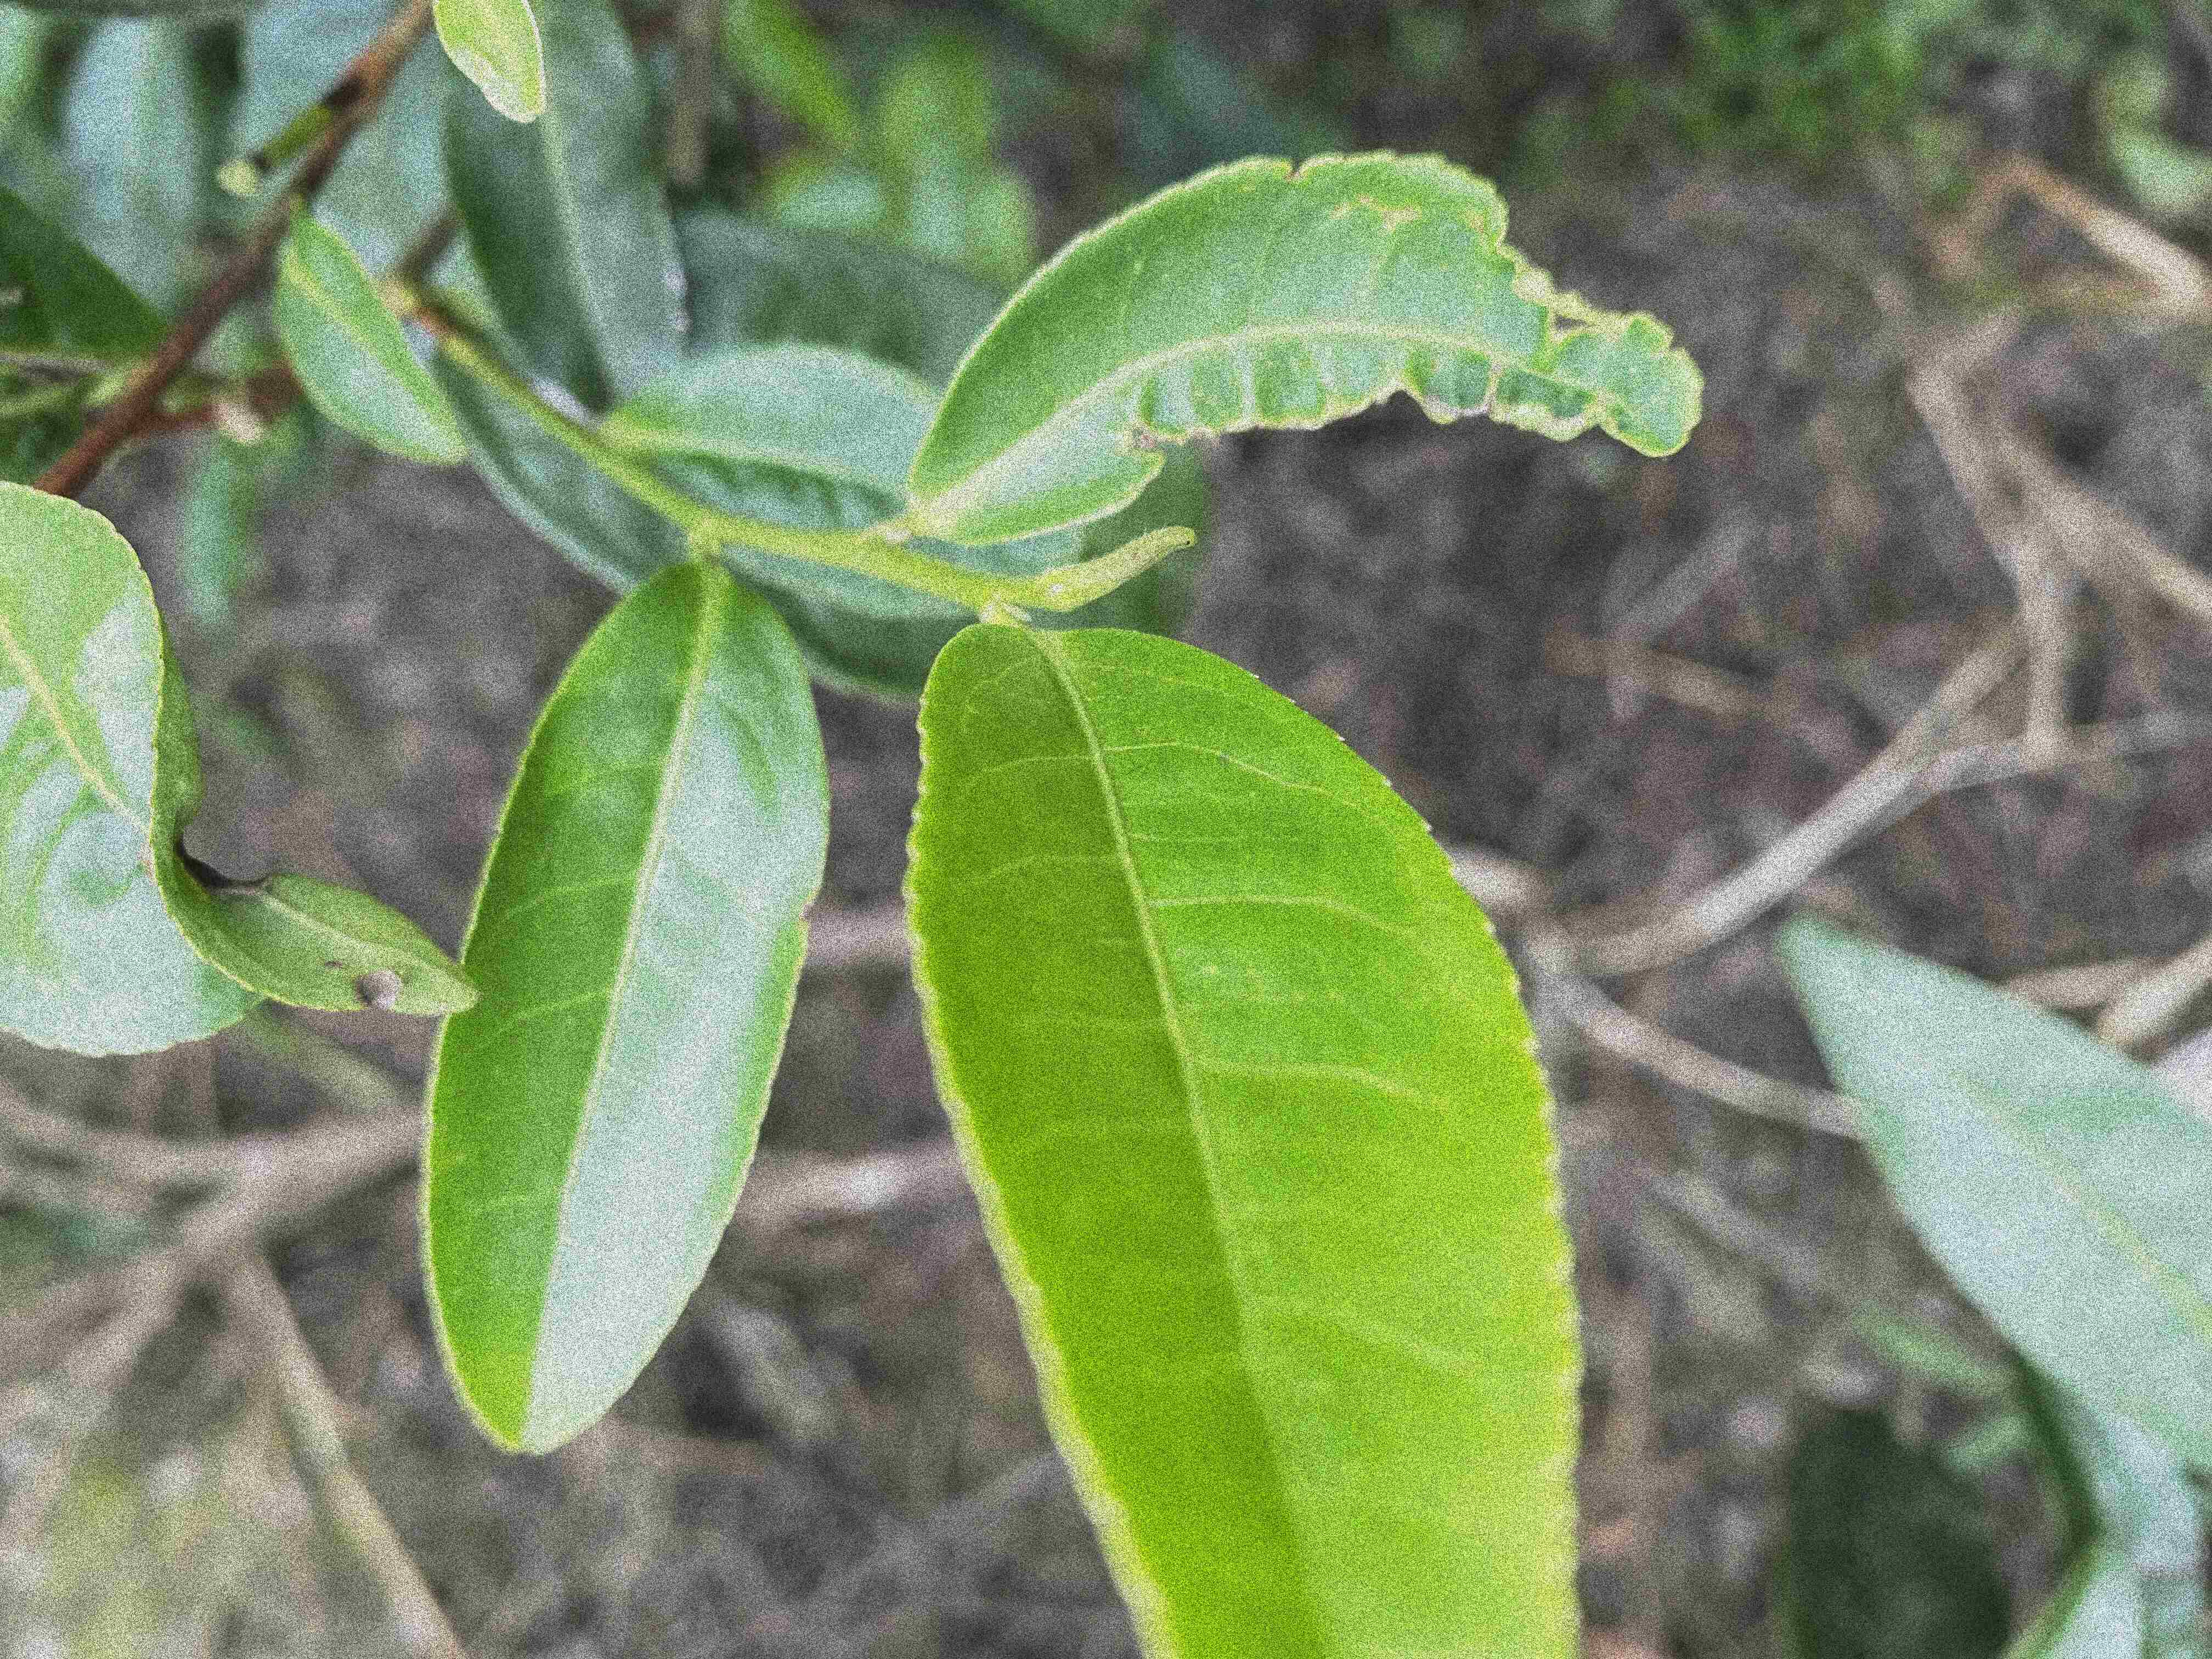chihuo_high: (904, 148, 1703, 554)
healthy: (899, 615, 1583, 1652), (425, 552, 833, 1460)
